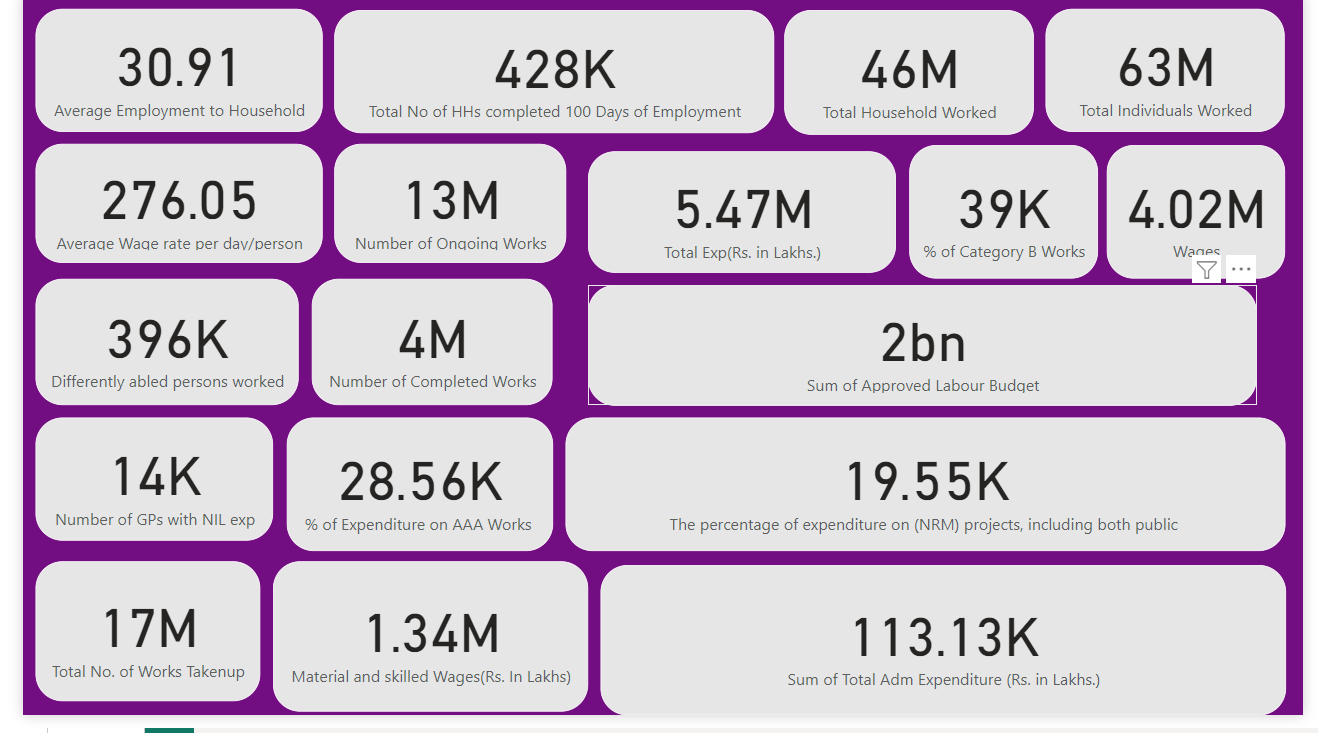

The page's visual inventory and layout, read from the dashboard file:
{"tool":"powerbi","page":{"name":"Page 2","canvas":[1280,720],"ordinal":1},"visuals":[{"type":"card","fields":{"Values":["Avg(NREGA.Average days of employment provided per Household)"]},"box":[11.9,13.4,287,123.4],"z":0},{"type":"card","fields":{"Values":["Avg(NREGA.Average Wage rate per day per person(Rs.))"]},"box":[11.9,148.7,287,119],"z":1000},{"type":"card","fields":{"Values":["Sum(NREGA.Total No of HHs completed 100 Days of Wage Employment)"]},"box":[310.8,14.9,440.2,123.4],"z":2000},{"type":"card","fields":{"Values":["Sum(NREGA.Total Households Worked)"]},"box":[761.3,14.9,249.8,124.9],"z":3000},{"type":"card","fields":{"Values":["Sum(NREGA.Total Individuals Worked)"]},"box":[1023.1,13.4,239.4,123.4],"z":4000},{"type":"card","fields":{"Values":["Sum(NREGA.Differently abled persons worked)"]},"box":[11.9,284,263.2,126.4],"z":5000},{"type":"card","fields":{"Values":["Sum(NREGA.Number of GPs with NIL exp)"]},"box":[11.9,422.3,237.9,123.4],"z":6000},{"type":"card","fields":{"Values":["Sum(NREGA.Total No. of Works Takenup (New+Spill Over))"]},"box":[11.9,566.5,224.5,139.8],"z":7000},{"type":"card","fields":{"Values":["Sum(NREGA.Number of Ongoing Works)"]},"box":[310.8,148.7,232,119],"z":8000},{"type":"card","fields":{"Values":["Sum(NREGA.Number of Completed Works)"]},"box":[288.5,284,240.9,126.4],"z":9000},{"type":"card","fields":{"Values":["Sum(NREGA.% of NRM Expenditure(Public + Individual))"]},"box":[542.8,422.3,719.7,133.8],"z":10000},{"type":"card","fields":{"Values":["Sum(NREGA.% of Category B Works)"]},"box":[886.2,150.2,188.8,133.8],"z":10001},{"type":"card","fields":{"Values":["Sum(NREGA.% of Expenditure on Agriculture & Agriculture Allied Works)"]},"box":[263.2,422.3,266.2,133.8],"z":10002},{"type":"card","fields":{"Values":["Sum(NREGA.Total Exp(Rs. in Lakhs.))"]},"box":[565.1,156.1,307.8,121.9],"z":10003},{"type":"card","fields":{"Values":["Sum(NREGA.Wages(Rs. In Lakhs))"]},"box":[1084,150.2,178.4,133.8],"z":10004},{"type":"card","fields":{"Values":["Sum(NREGA.Material and skilled Wages(Rs. In Lakhs))"]},"box":[249.8,566.5,315.2,150.2],"z":10005},{"type":"card","fields":{"Values":["Sum(NREGA.Total Adm Expenditure (Rs. in Lakhs.))"]},"box":[577,569.5,685.5,150.2],"z":10006},{"type":"card","fields":{"Values":["Sum(NREGA.Approved Labour Budget)"]},"box":[565.1,290,669.1,120.4],"z":10007}]}

Visuals, with their boxes in screenshot pixels (x1, y1, x2, y2):
card - Avg(NREGA.Average days of employment provided per Household): bbox=[22, 3, 311, 127]
card - Avg(NREGA.Average Wage rate per day per person(Rs.)): bbox=[22, 139, 311, 259]
card - Sum(NREGA.Total No of HHs completed 100 Days of Wage Employment): bbox=[323, 5, 766, 129]
card - Sum(NREGA.Total Households Worked): bbox=[776, 5, 1028, 130]
card - Sum(NREGA.Total Individuals Worked): bbox=[1040, 3, 1280, 127]
card - Sum(NREGA.Differently abled persons worked): bbox=[22, 275, 287, 403]
card - Sum(NREGA.Number of GPs with NIL exp): bbox=[22, 415, 262, 539]
card - Sum(NREGA.Total No. of Works Takenup (New+Spill Over)): bbox=[22, 560, 248, 700]
card - Sum(NREGA.Number of Ongoing Works): bbox=[323, 139, 556, 259]
card - Sum(NREGA.Number of Completed Works): bbox=[301, 275, 543, 403]
card - Sum(NREGA.% of NRM Expenditure(Public + Individual)): bbox=[556, 415, 1280, 549]
card - Sum(NREGA.% of Category B Works): bbox=[902, 141, 1092, 275]
card - Sum(NREGA.% of Expenditure on Agriculture & Agriculture Allied Works): bbox=[275, 415, 543, 549]
card - Sum(NREGA.Total Exp(Rs. in Lakhs.)): bbox=[579, 147, 888, 269]
card - Sum(NREGA.Wages(Rs. In Lakhs)): bbox=[1101, 141, 1280, 275]
card - Sum(NREGA.Material and skilled Wages(Rs. In Lakhs)): bbox=[262, 560, 579, 711]
card - Sum(NREGA.Total Adm Expenditure (Rs. in Lakhs.)): bbox=[591, 563, 1280, 714]
card - Sum(NREGA.Approved Labour Budget): bbox=[579, 281, 1252, 403]
